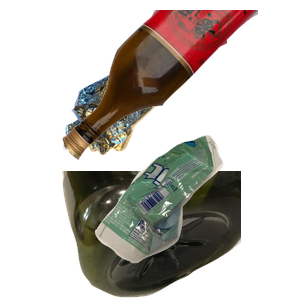glass: (60, 10, 300, 163)
metal: (61, 54, 225, 202)
plastic: (60, 171, 300, 300)
trash: (92, 133, 300, 300)
